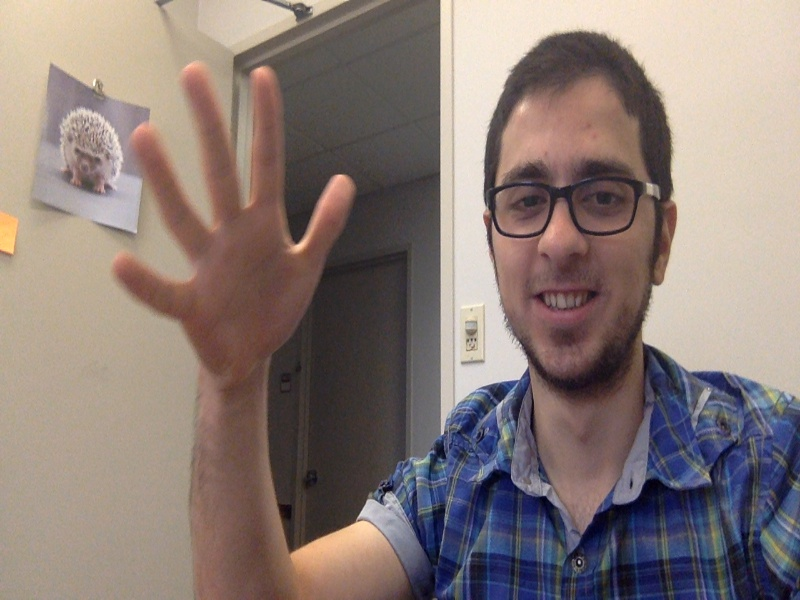5-hand: (112, 61, 355, 386)
